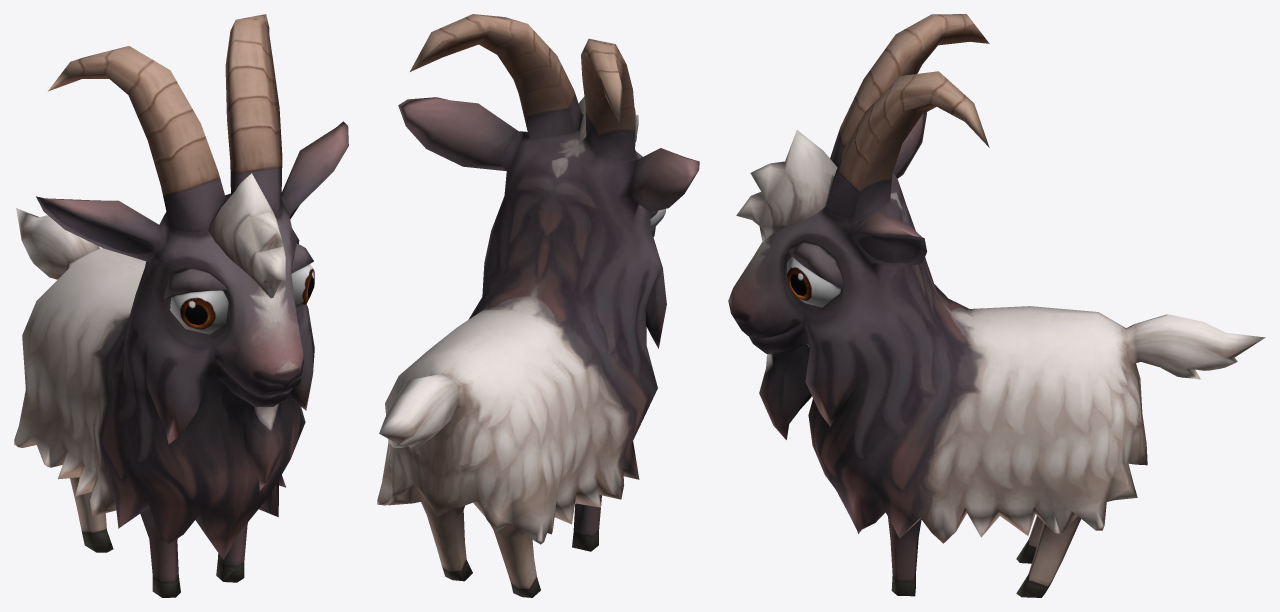
3 views of the same model, side by side, from view 1: azimuth 30°, elevation 25°; view 2: azimuth 150°, elevation 25°; view 3: azimuth 270°, elevation 25° (orthographic). The views are drawn at different scales.
Parts seen in each view (by area): view 1: Goat; view 2: Goat; view 3: Goat.
Boxes of the visible parts, x1,y1,x2,y2 form: Goat: (14, 14, 348, 597); Goat: (377, 14, 699, 597); Goat: (728, 14, 1265, 597).
Bounding box in the file's own units: 4.19 × 7.03 × 6.45.
1 material, 1 textured.
